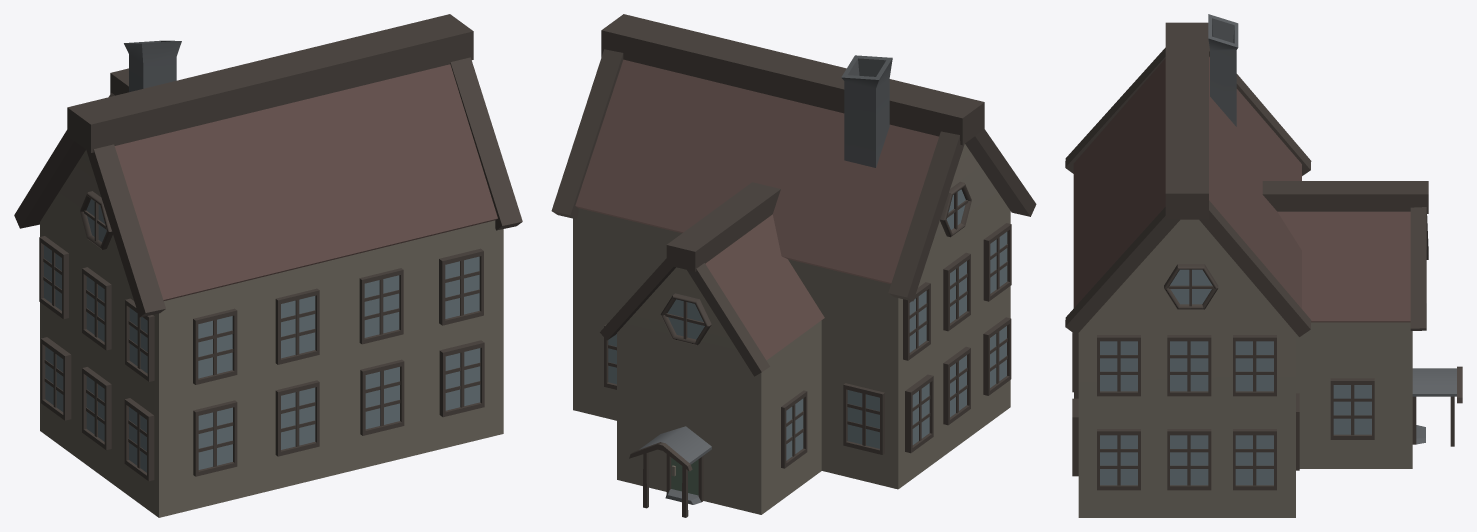
File: Assembled_House_Mansion.fbx
3 renders of one model, left to right at view 1: azimuth 30°, elevation 25°; view 2: azimuth 150°, elevation 25°; view 3: azimuth 270°, elevation 25°, orthographic. The views are drawn at different scales.
Parts seen in each view (by area): view 1: Combined_Mansion; view 2: Combined_Mansion; view 3: Combined_Mansion.
Boxes of the visible parts, bbox=[...] form: Combined_Mansion: bbox=[14, 14, 522, 517]; Combined_Mansion: bbox=[551, 14, 1036, 517]; Combined_Mansion: bbox=[1065, 14, 1462, 517].
Size of the model in its own units: 14.8 by 15.14 by 14.56.
